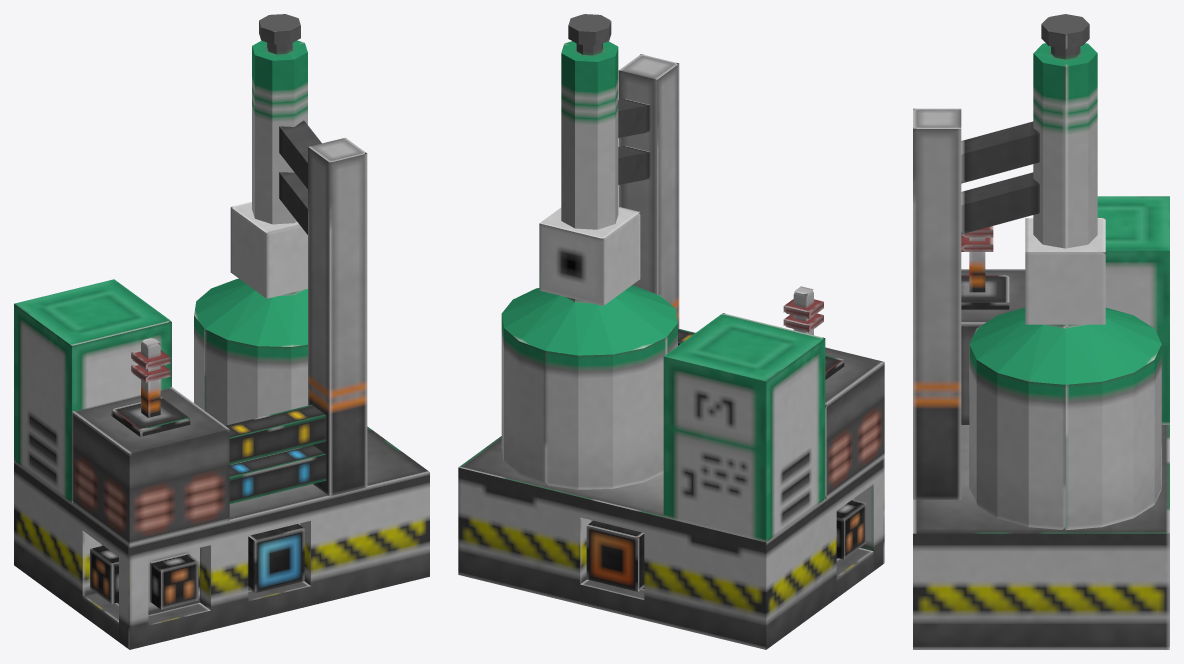
File: crystal_growing_furnace.obj
3 views of the same model, side by side, from view 1: azimuth 30°, elevation 25°; view 2: azimuth 150°, elevation 25°; view 3: azimuth 270°, elevation 25° (orthographic). The views are drawn at different scales.
Parts seen in each view (by area): view 1: cube.014, cube.026, cube.020, cube.002_cube.001, cube.003, cube.001_cube.002, cube, cube.022; view 2: cube.014, cube.026, cube.002_cube.001, cube.003, cube.020, cube, cube.022; view 3: cube.002_cube.001, cube.014, cube.020, cube.026, cube.003, cube, cube.022.
Part boxes in pixels (<box>): cube.014: <box>14,426,429,649</box>; cube.026: <box>14,279,229,544</box>; cube.020: <box>308,137,367,496</box>; cube.002_cube.001: <box>194,278,307,425</box>; cube.003: <box>252,14,307,295</box>; cube.001_cube.002: <box>225,404,326,503</box>; cube: <box>230,202,307,298</box>; cube.022: <box>279,120,321,234</box>; cube.014: <box>458,436,884,649</box>; cube.026: <box>663,286,884,542</box>; cube.002_cube.001: <box>501,285,677,489</box>; cube.003: <box>561,14,618,303</box>; cube.020: <box>618,54,679,328</box>; cube: <box>539,206,640,305</box>; cube.022: <box>618,99,650,184</box>; cube.002_cube.001: <box>969,307,1161,530</box>; cube.014: <box>913,425,1169,649</box>; cube.020: <box>913,108,961,499</box>; cube.026: <box>961,196,1169,424</box>; cube.003: <box>1033,14,1097,327</box>; cube: <box>1025,218,1105,324</box>; cube.022: <box>961,121,1039,234</box>.
Size of the model in its own units: 3 by 5 by 2.
